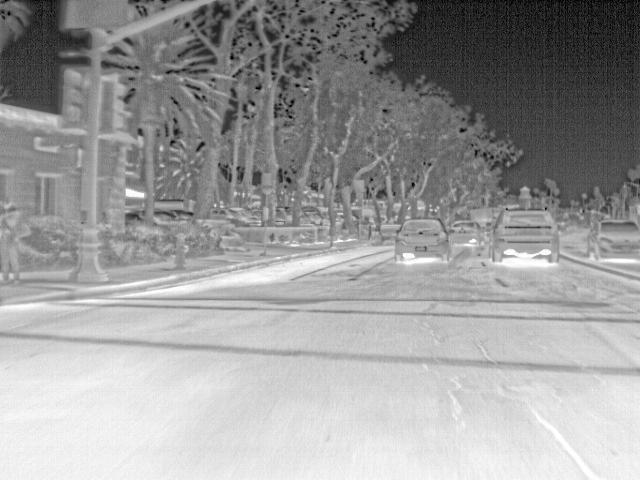car: (490, 207, 558, 262), (395, 219, 450, 262), (585, 218, 640, 260), (446, 218, 484, 246)
person: (1, 202, 34, 287)
